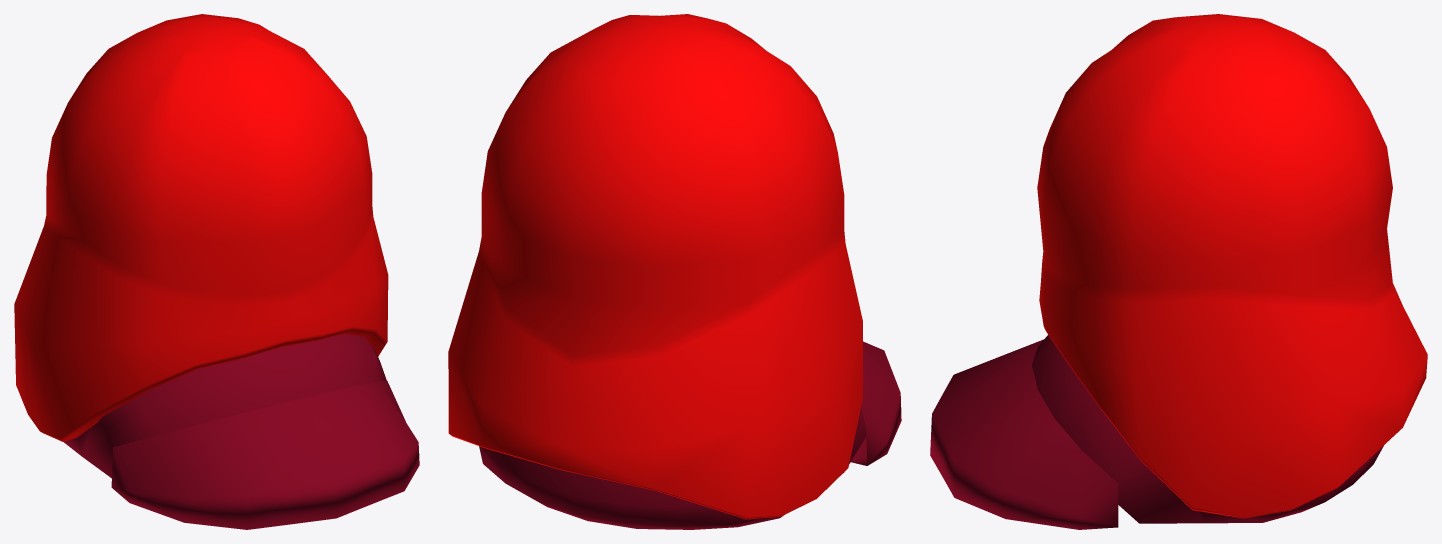
Rendered from Right_downLeg-1.obj.
The picture shows the model from 3 angles, left to right: view 1: azimuth 30°, elevation 25°; view 2: azimuth 150°, elevation 25°; view 3: azimuth 270°, elevation 25°; orthographic projection. The views are drawn at different scales.
Visible parts, largest first — view 1: polySurface238; view 2: polySurface238; view 3: polySurface238.
Boxes of the visible parts, x1,y1,x2,y2 form: polySurface238: (14,14,419,529); polySurface238: (448,14,901,529); polySurface238: (930,14,1427,529).
Bounding box in the file's own units: 2.3 × 2.68 × 2.83.
